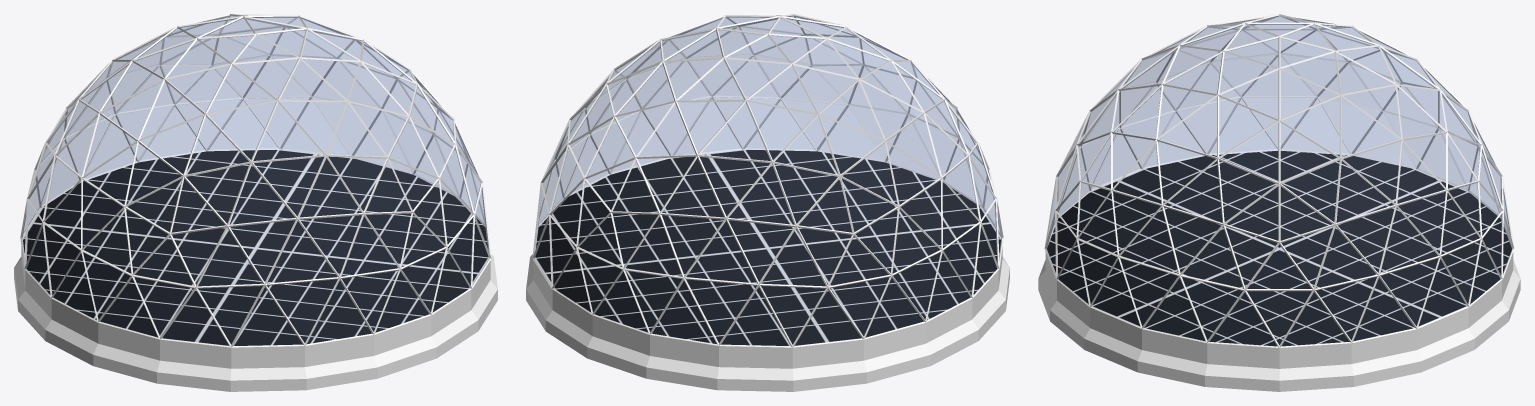
The model's file is Bubble Model.gltf.
3 renders of one model, left to right at view 1: azimuth 30°, elevation 25°; view 2: azimuth 150°, elevation 25°; view 3: azimuth 270°, elevation 25°, orthographic.
Parts seen in each view (by area): view 1: Bubble_Sphere, Bubble_Platform; view 2: Bubble_Sphere, Bubble_Platform; view 3: Bubble_Sphere, Bubble_Platform.
Part boxes in pixels (x1,y1,x2,y2): Bubble_Sphere: [20, 14, 491, 347]; Bubble_Platform: [14, 149, 497, 391]; Bubble_Sphere: [532, 14, 1003, 347]; Bubble_Platform: [526, 149, 1009, 391]; Bubble_Sphere: [1044, 14, 1514, 347]; Bubble_Platform: [1038, 150, 1520, 391].
Size of what is drawn, in the model's own units: 206 by 120 by 206.
Materials: 4 (1 with a texture image).
